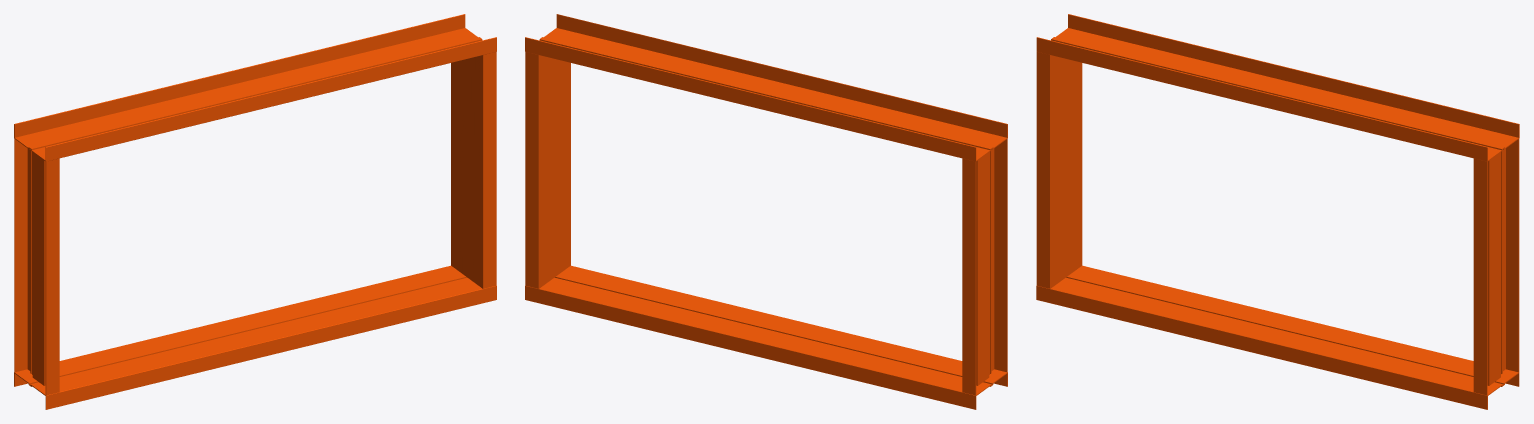
Rendered from Zaslonka2_Rama.FBX.
3 views of the same model, side by side, from view 1: azimuth 30°, elevation 25°; view 2: azimuth 150°, elevation 25°; view 3: azimuth 330°, elevation 25° (orthographic).
Visible parts, largest first — view 1: Zaslonka_Rama; view 2: Zaslonka_Rama; view 3: Zaslonka_Rama.
Boxes of the visible parts, <box> form: Zaslonka_Rama: <box>14,14,496,409</box>; Zaslonka_Rama: <box>525,14,1007,409</box>; Zaslonka_Rama: <box>1036,14,1519,409</box>.
Size of the model in its own units: 897 by 499 by 110.
